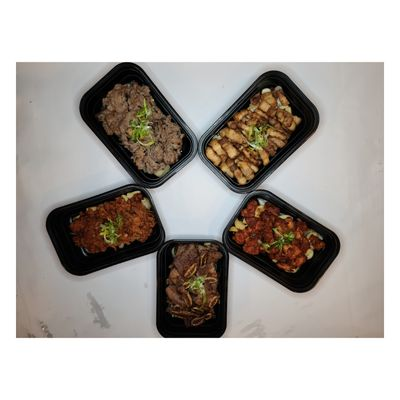curry: (99, 220, 118, 245)
sushi: (199, 69, 321, 193), (79, 63, 199, 188), (223, 189, 341, 293), (45, 185, 164, 277), (154, 239, 228, 335)
